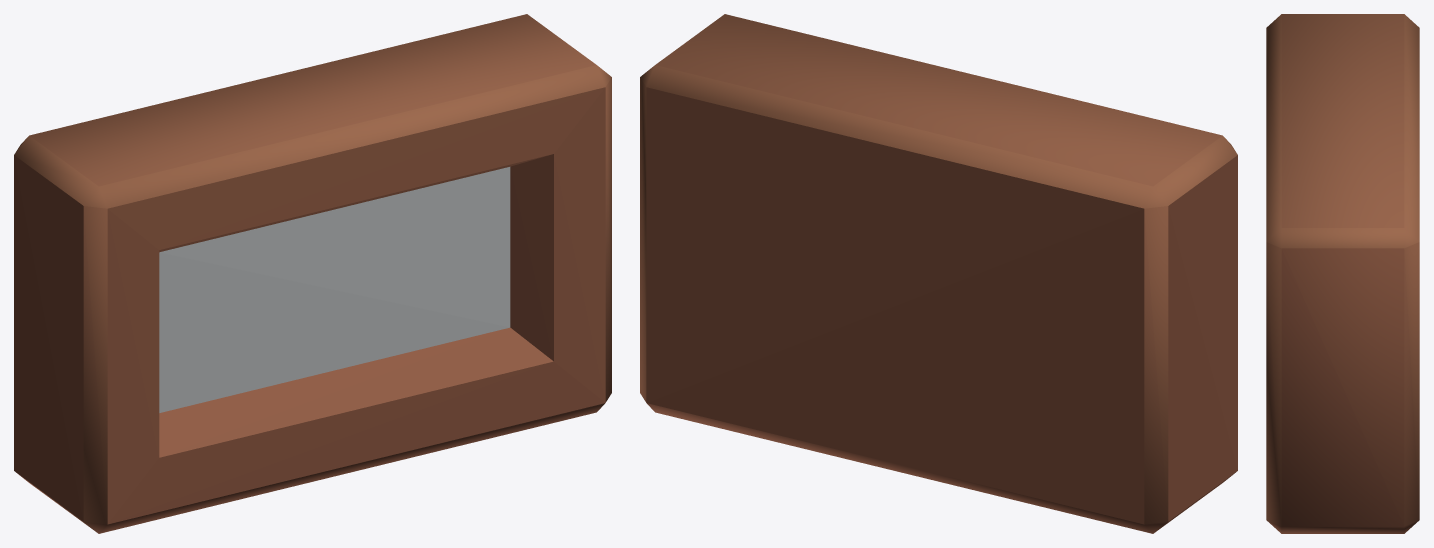
Rendered from kk_furniture_pictureframe_small_B.glb.
3 renders of one model, left to right at view 1: azimuth 30°, elevation 25°; view 2: azimuth 150°, elevation 25°; view 3: azimuth 270°, elevation 25°, orthographic. The views are drawn at different scales.
Parts seen in each view (by area): view 1: kk_furniture_pictureframe_small_B; view 2: kk_furniture_pictureframe_small_B; view 3: kk_furniture_pictureframe_small_B.
Boxes of the visible parts, x1=… form: kk_furniture_pictureframe_small_B: x1=14, y1=14, x2=611, y2=533; kk_furniture_pictureframe_small_B: x1=640, y1=14, x2=1237, y2=533; kk_furniture_pictureframe_small_B: x1=1266, y1=14, x2=1419, y2=533.
Size of the model in its own units: 0.7 by 0.44 by 0.2.
